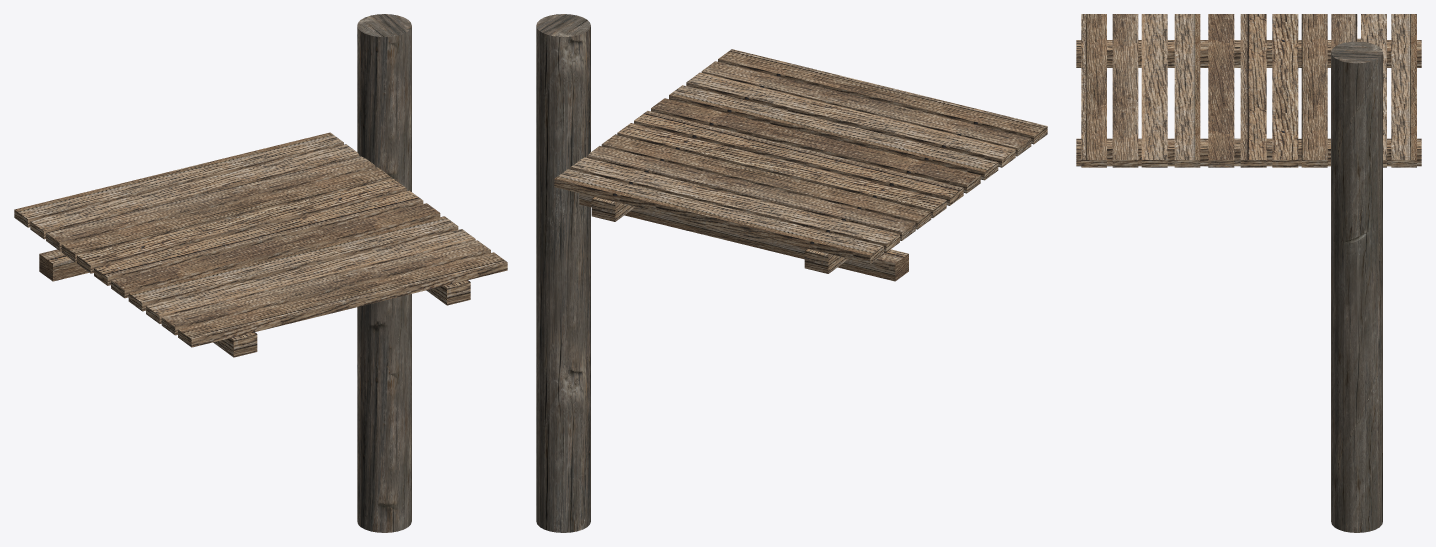
File: kit plataforma.fbx
3 renders of one model, left to right at view 1: azimuth 30°, elevation 25°; view 2: azimuth 150°, elevation 25°; view 3: azimuth 270°, elevation 25°, orthographic. The views are drawn at different scales.
Parts seen in each view (by area): view 1: plataforma4x4, columna6x0.3, viga 4x0.3; view 2: plataforma4x4, columna6x0.3, viga 4x0.3; view 3: plataforma4x4, columna6x0.3.
Part boxes in pixels (box(x1,y1,x2,y2)): plataforma4x4: box(14, 132, 507, 357); columna6x0.3: box(357, 14, 411, 532); viga 4x0.3: box(39, 249, 88, 281); plataforma4x4: box(554, 49, 1047, 273); columna6x0.3: box(536, 14, 590, 532); viga 4x0.3: box(579, 193, 908, 281); plataforma4x4: box(1076, 14, 1421, 167); columna6x0.3: box(1331, 41, 1382, 532).
Bounding box in the file's own units: 459 × 600 × 400.
2 materials, 2 textured.
